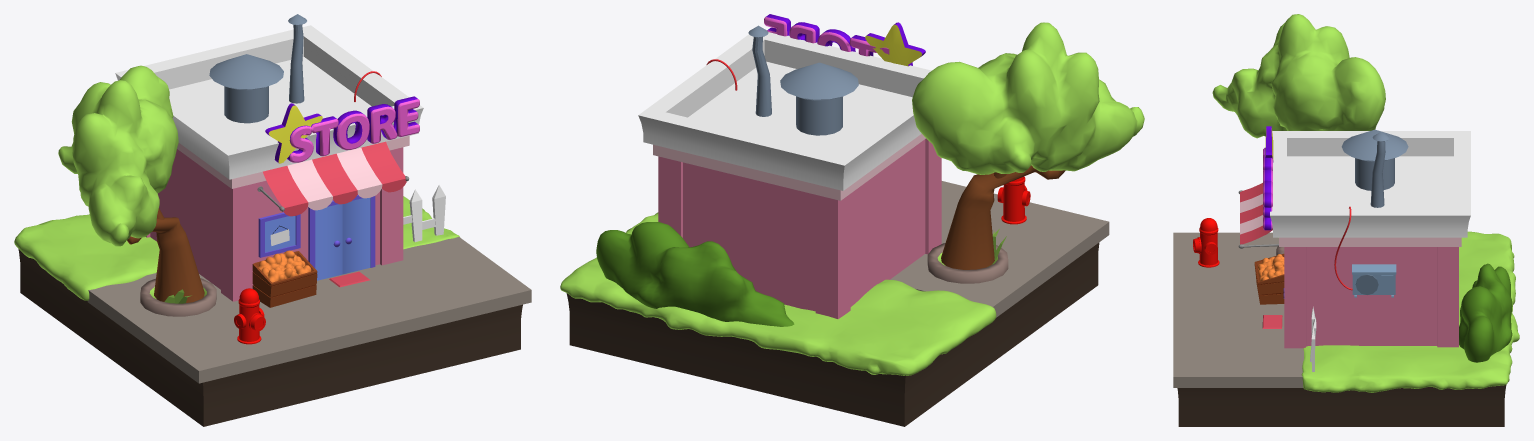
Rendered from Teste 3D Generalist - Pedro Nardi.fbx.
The picture shows the model from 3 angles, left to right: view 1: azimuth 30°, elevation 25°; view 2: azimuth 150°, elevation 25°; view 3: azimuth 270°, elevation 25°; orthographic projection. The views are drawn at different scales.
Parts seen in each view (by area): view 1: Walkway, Ground, Roof, Tree, Building, Grass, Awning, Door, Roof Exausts, Text, Food Box, Window (+4 smaller); view 2: Building, Roof, Tree, Ground, Grass, Bushes, Walkway, Roof Exausts, Text, Tree Base, Star, Fire Hydrant; view 3: Roof, Building, Walkway, Tree, Ground, Grass, Bushes, Roof Exausts, Air Conditioner, Food Box, Awning, Fire Hydrant (+1 smaller).
Part boxes in pixels (x1=…): Walkway: x1=87, y1=236, x2=531, y2=383; Ground: x1=18, y1=249, x2=522, y2=426; Roof: x1=115, y1=25, x2=423, y2=188; Tree: x1=58, y1=65, x2=204, y2=303; Building: x1=146, y1=147, x2=403, y2=301; Grass: x1=14, y1=196, x2=459, y2=300; Awning: x1=263, y1=141, x2=406, y2=216; Door: x1=308, y1=195, x2=375, y2=280; Roof Exausts: x1=209, y1=14, x2=306, y2=123; Text: x1=287, y1=96, x2=419, y2=162; Food Box: x1=252, y1=250, x2=317, y2=307; Window: x1=258, y1=212, x2=300, y2=257; Building: x1=658, y1=138, x2=941, y2=318; Roof: x1=638, y1=32, x2=931, y2=200; Tree: x1=912, y1=22, x2=1144, y2=269; Ground: x1=566, y1=242, x2=1099, y2=426; Grass: x1=560, y1=212, x2=996, y2=375; Bushes: x1=596, y1=222, x2=794, y2=326; Walkway: x1=890, y1=181, x2=1109, y2=317; Roof Exausts: x1=748, y1=25, x2=858, y2=135; Text: x1=764, y1=14, x2=889, y2=56; Tree Base: x1=927, y1=243, x2=1008, y2=283; Star: x1=865, y1=22, x2=925, y2=66; Fire Hydrant: x1=997, y1=176, x2=1030, y2=224; Roof: x1=1270, y1=131, x2=1470, y2=246; Building: x1=1284, y1=247, x2=1458, y2=348; Walkway: x1=1173, y1=232, x2=1303, y2=387; Tree: x1=1212, y1=14, x2=1385, y2=138; Ground: x1=1177, y1=385, x2=1506, y2=426; Grass: x1=1301, y1=231, x2=1519, y2=392; Bushes: x1=1459, y1=263, x2=1512, y2=362; Roof Exausts: x1=1341, y1=129, x2=1408, y2=207; Air Conditioner: x1=1334, y1=206, x2=1396, y2=297; Food Box: x1=1254, y1=253, x2=1284, y2=304; Awning: x1=1240, y1=183, x2=1272, y2=244; Fire Hydrant: x1=1193, y1=218, x2=1219, y2=267.
Bounding box in the file's own units: 254 × 181 × 213.
